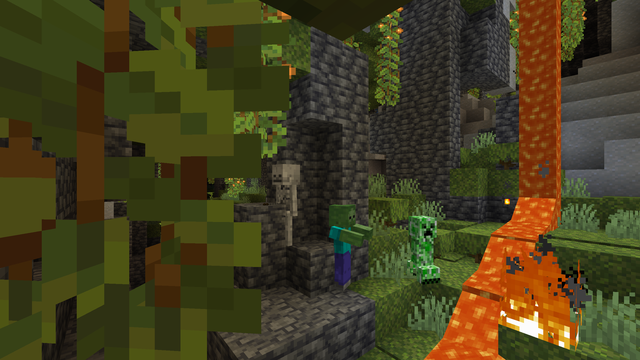creepers: (405, 212, 437, 284)
squelettes: (269, 164, 302, 248)
zombies: (325, 205, 359, 293)
